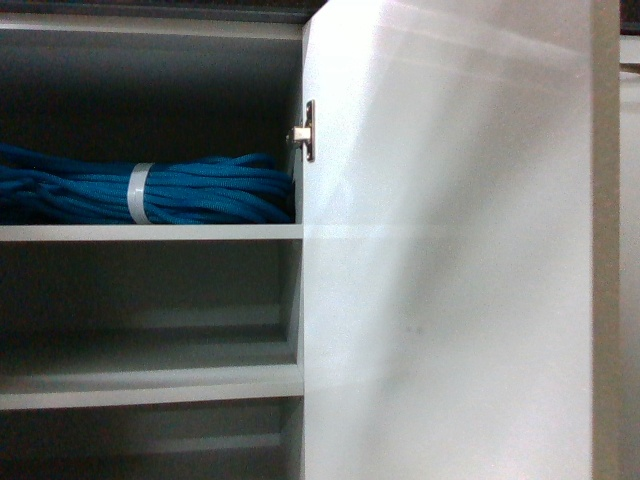rope: (4, 140, 296, 226)
